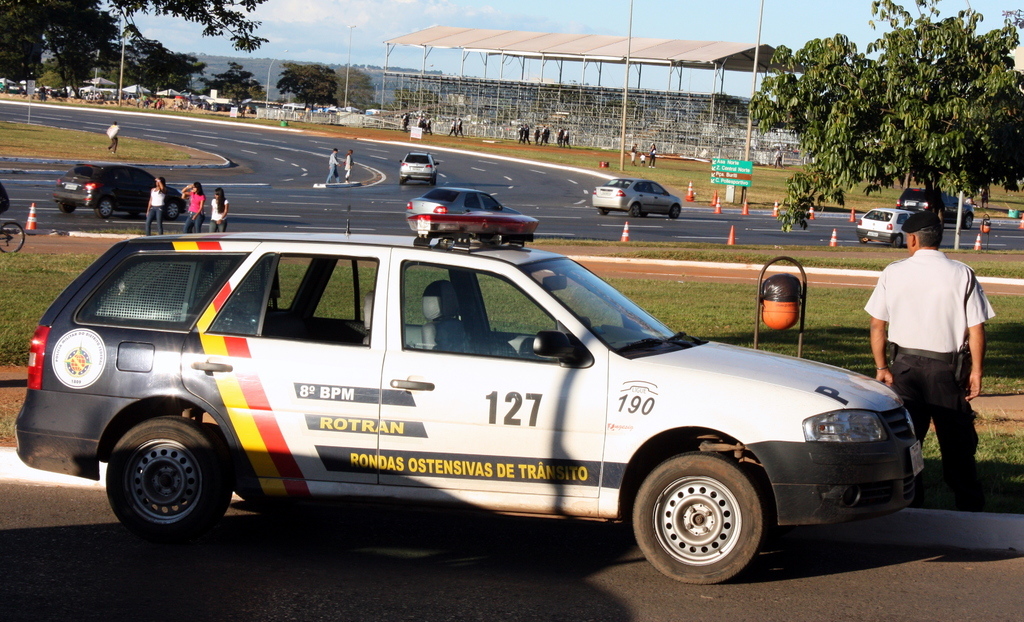cars: (15, 160, 926, 583), (53, 162, 189, 221), (405, 185, 539, 221), (592, 178, 682, 220), (895, 187, 975, 229), (855, 208, 914, 247), (399, 151, 440, 187), (0, 181, 10, 212)
